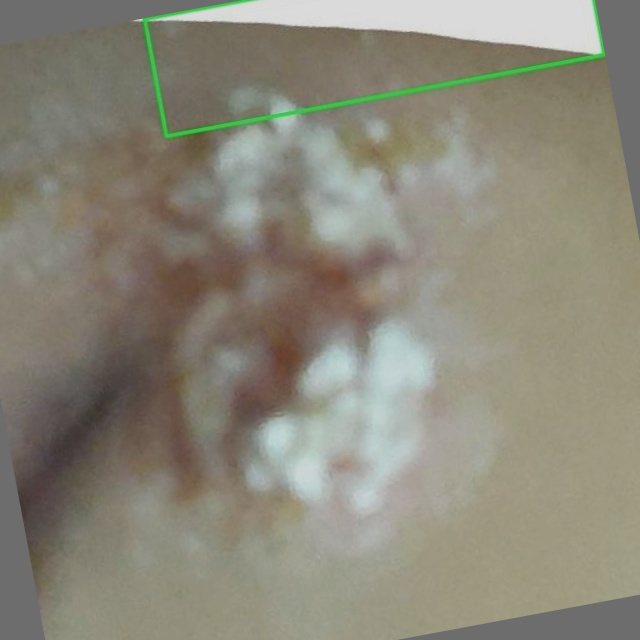Eczema: (144, 0, 604, 136)
